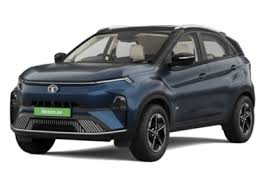Tata Nexon: (8, 25, 256, 163)
